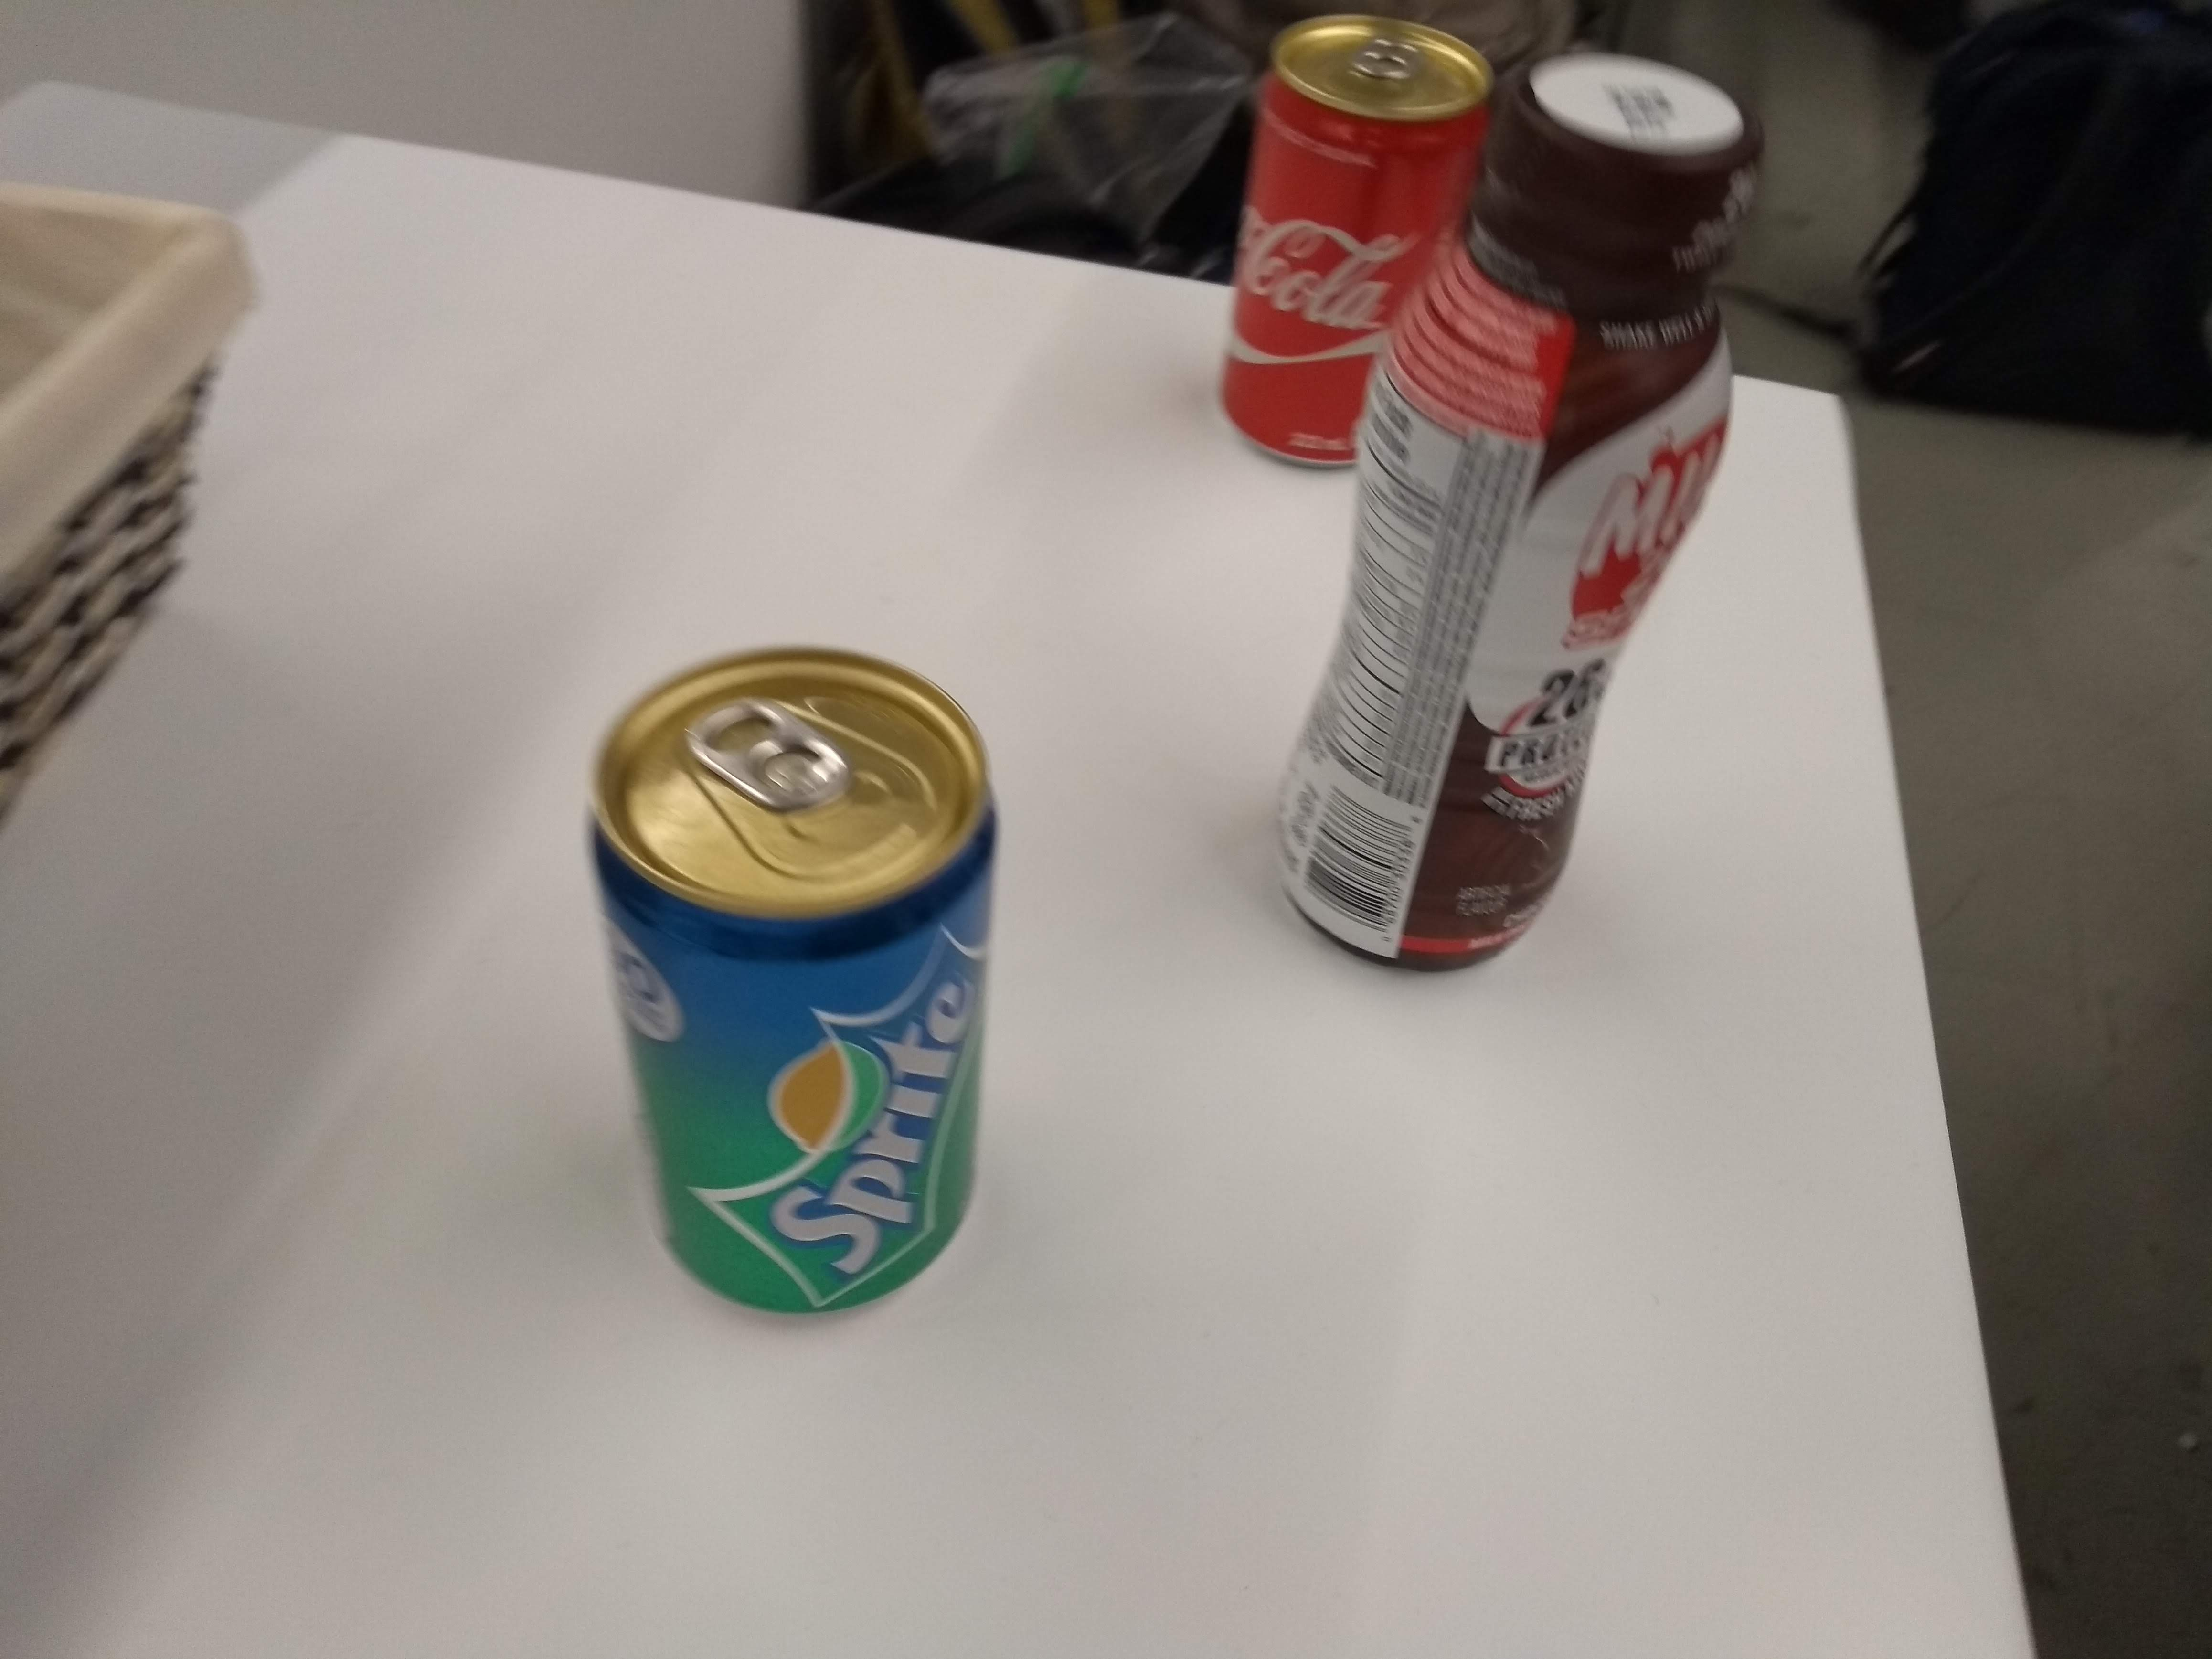chocolate_drink: (1261, 42, 1782, 979)
coke: (1211, 3, 1514, 483)
sprite: (566, 629, 1017, 1326)
